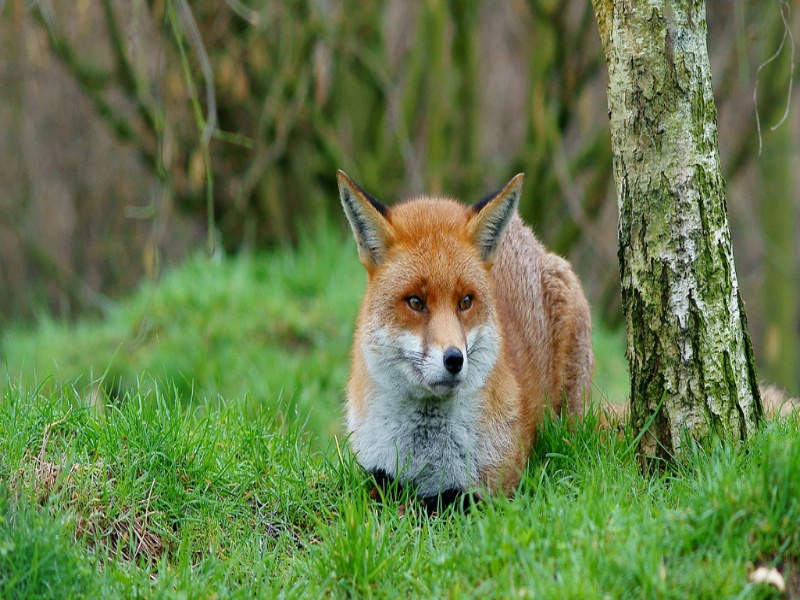fox: (321, 162, 645, 517)
